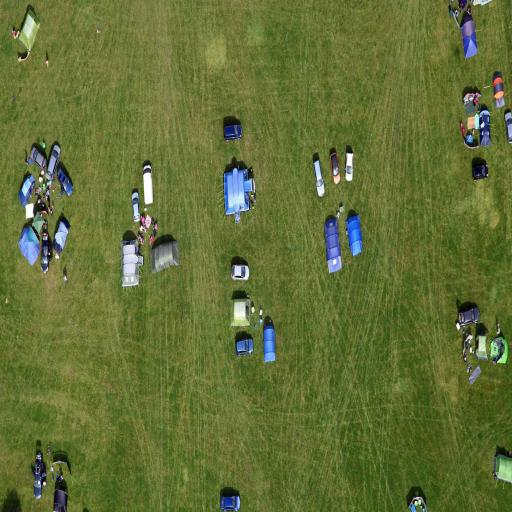tent: (219, 170, 252, 221), (323, 219, 343, 271), (150, 240, 182, 271), (17, 12, 40, 55), (344, 215, 364, 256), (18, 224, 38, 264), (229, 296, 251, 328), (460, 19, 478, 58), (493, 450, 512, 486), (491, 72, 506, 110), (480, 110, 494, 150), (54, 474, 68, 512), (490, 334, 506, 365), (262, 325, 276, 360), (475, 337, 488, 362)
